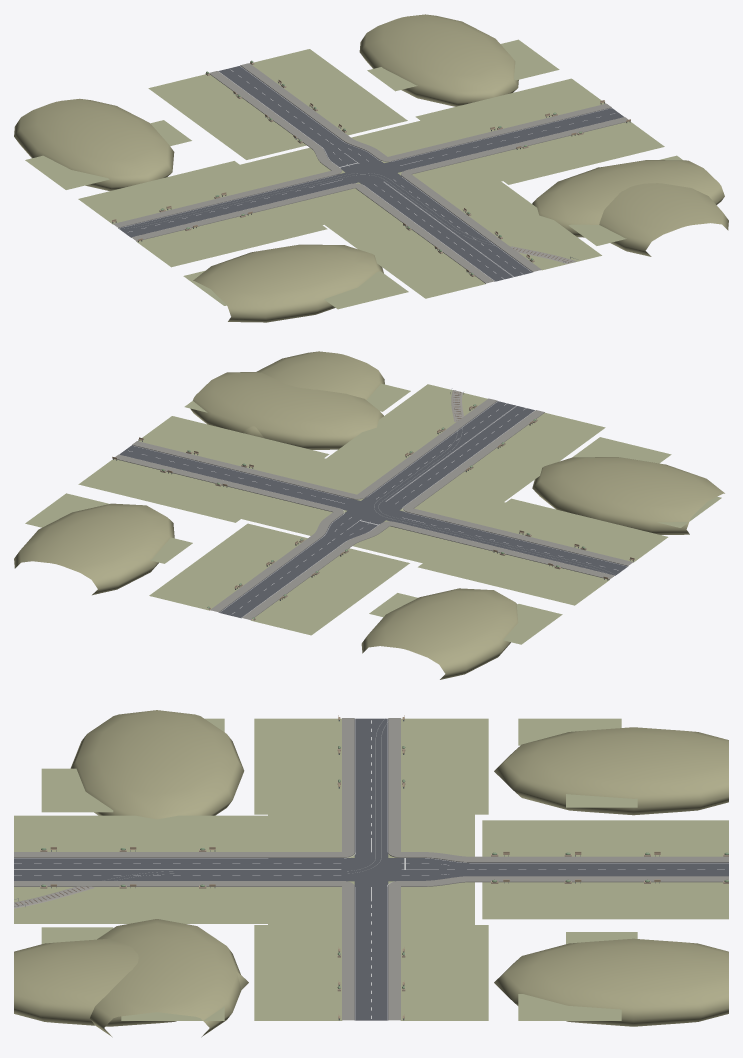
3 renders of one model, top to bottom at view 1: azimuth 30°, elevation 25°; view 2: azimuth 150°, elevation 25°; view 3: azimuth 270°, elevation 25°, orthographic. The views are drawn at different scales.
Parts seen in each view (by area): view 1: static; view 2: static; view 3: static.
Boxes of the visible parts, x1=… form: static: x1=14, y1=14, x2=728, y2=322; static: x1=14, y1=351, x2=724, y2=679; static: x1=14, y1=710, x2=728, y2=1037.
Size of what is drawn, in the model's own units: 180 by 14.08 by 180.
